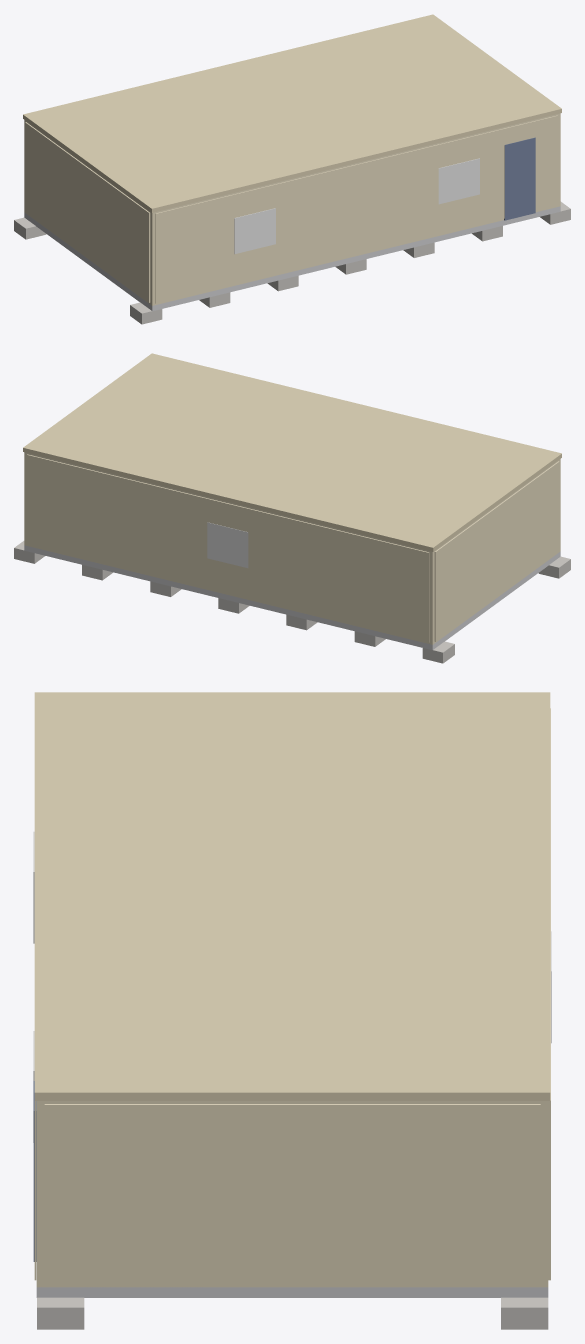
File: Studio-40-Base-MicroGrainYellowSlate-LOD3.glb
The picture shows the model from 3 angles, top to bottom: view 1: azimuth 30°, elevation 25°; view 2: azimuth 150°, elevation 25°; view 3: azimuth 270°, elevation 25°; orthographic projection. The views are drawn at different scales.
Visible parts, largest first — view 1: RoofMain, ExteriorPanelsStandard, BaseFrame, WindowsStandard, ExteriorShell, FoundationBlocks, EntryDoor; view 2: RoofMain, ExteriorPanelsStandard, BaseFrame, ExteriorShell, FoundationBlocks, WindowsStandard; view 3: RoofMain, ExteriorPanelsStandard, ExteriorShell, BaseFrame, FoundationBlocks.
Boxes of the visible parts, x1,y1,x2,y2 form: RoofMain: [23, 14, 561, 212]; ExteriorPanelsStandard: [25, 115, 557, 303]; BaseFrame: [24, 206, 560, 311]; WindowsStandard: [234, 158, 479, 254]; ExteriorShell: [24, 113, 560, 305]; FoundationBlocks: [14, 201, 570, 324]; EntryDoor: [504, 137, 535, 220]; RoofMain: [23, 353, 561, 551]; ExteriorPanelsStandard: [27, 454, 559, 642]; BaseFrame: [24, 545, 560, 650]; ExteriorShell: [24, 452, 560, 644]; FoundationBlocks: [14, 541, 570, 663]; WindowsStandard: [207, 522, 248, 567]; RoofMain: [34, 692, 550, 1100]; ExteriorPanelsStandard: [34, 708, 550, 1284]; ExteriorShell: [36, 1101, 548, 1287]; BaseFrame: [36, 1287, 548, 1297]; FoundationBlocks: [37, 1297, 548, 1329].
Size of the model in its own units: 12.49 by 3.17 by 6.53.
